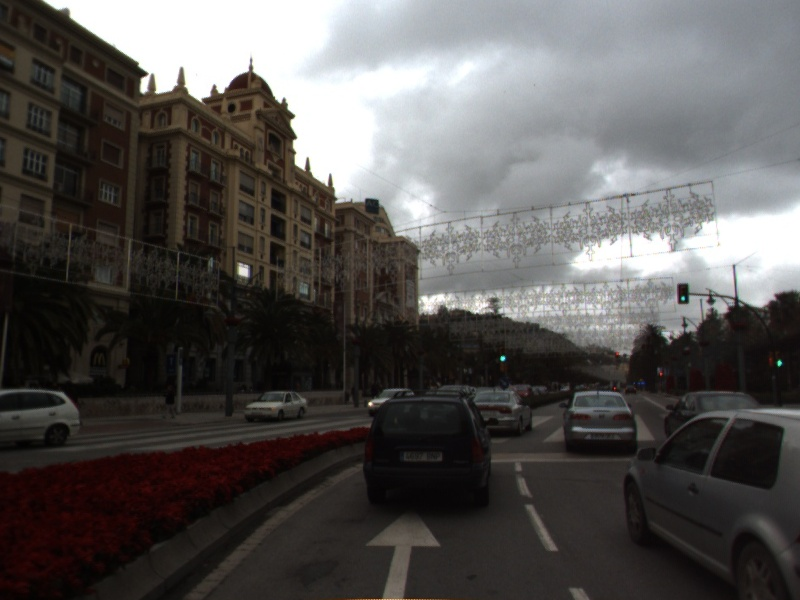STRAIGHT: (361, 502, 445, 600)
